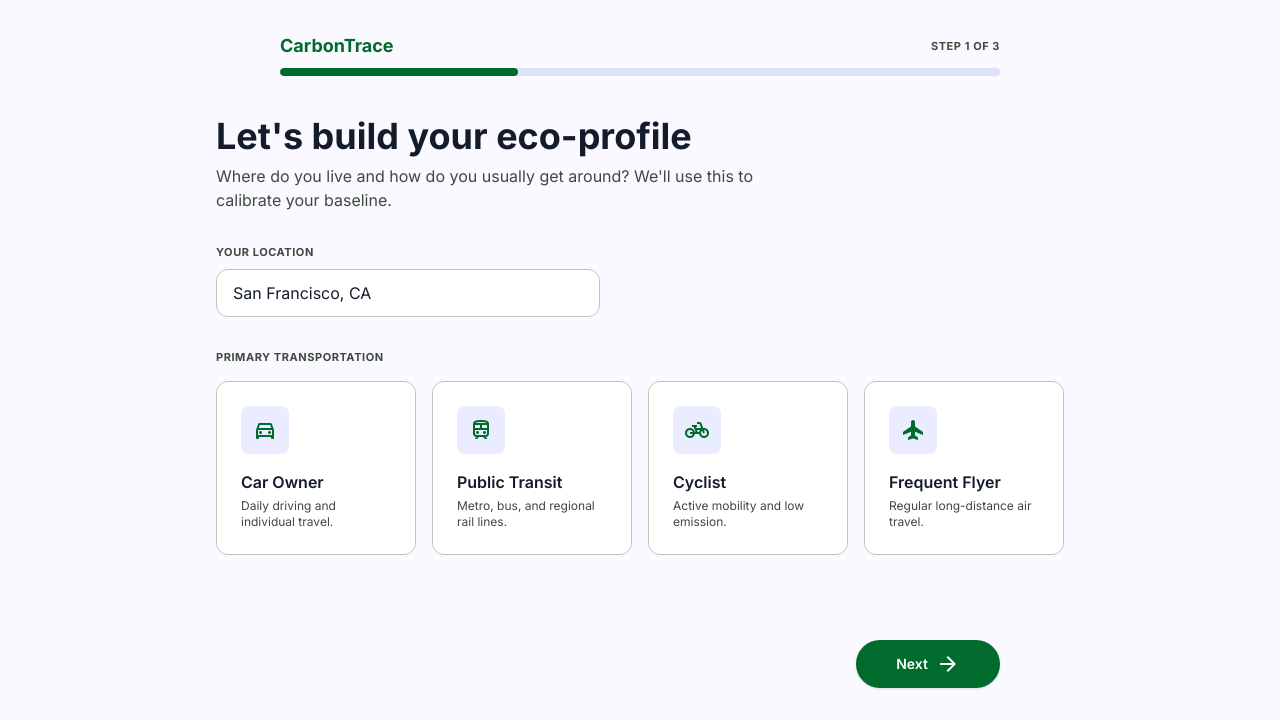
it: OnboardingPage › Next button advances to step 2
The width and height of the screenshot is (1280, 720).
Click the button "Next" at (928, 664), box [856, 640, 1000, 688]
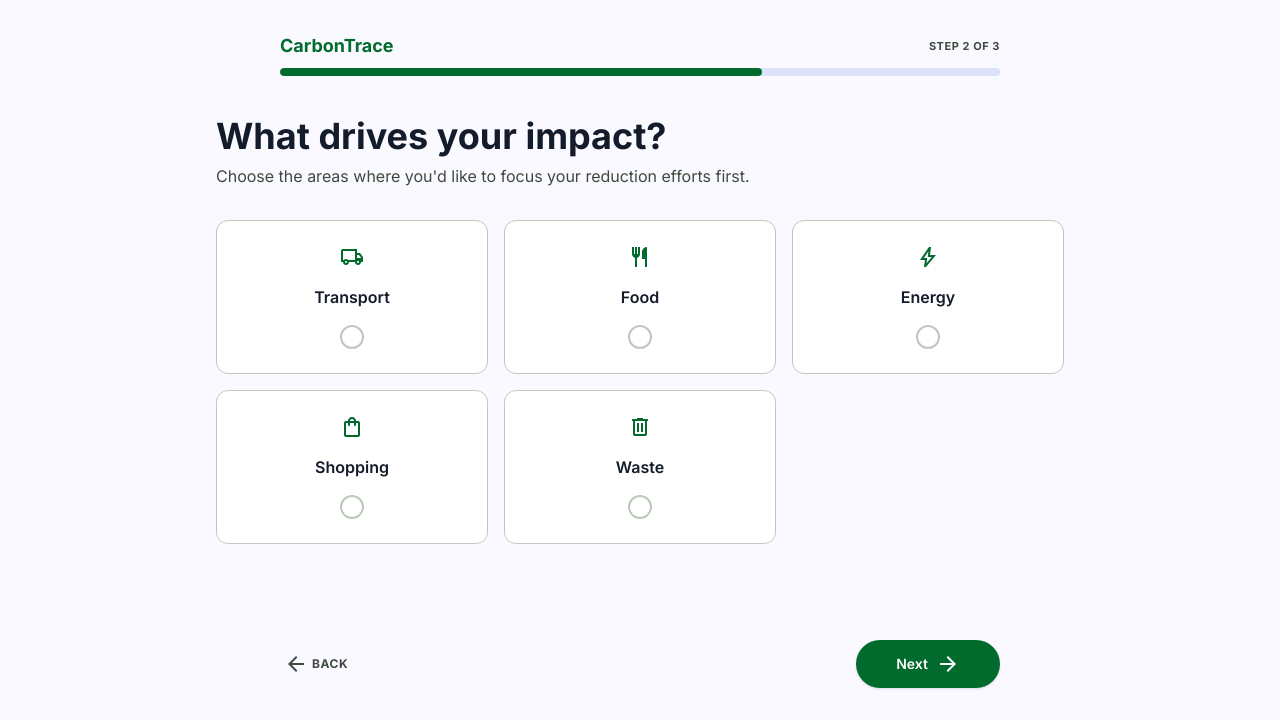
Expected: the heading "What drives your impact?" is shown, [216, 114, 666, 158]
